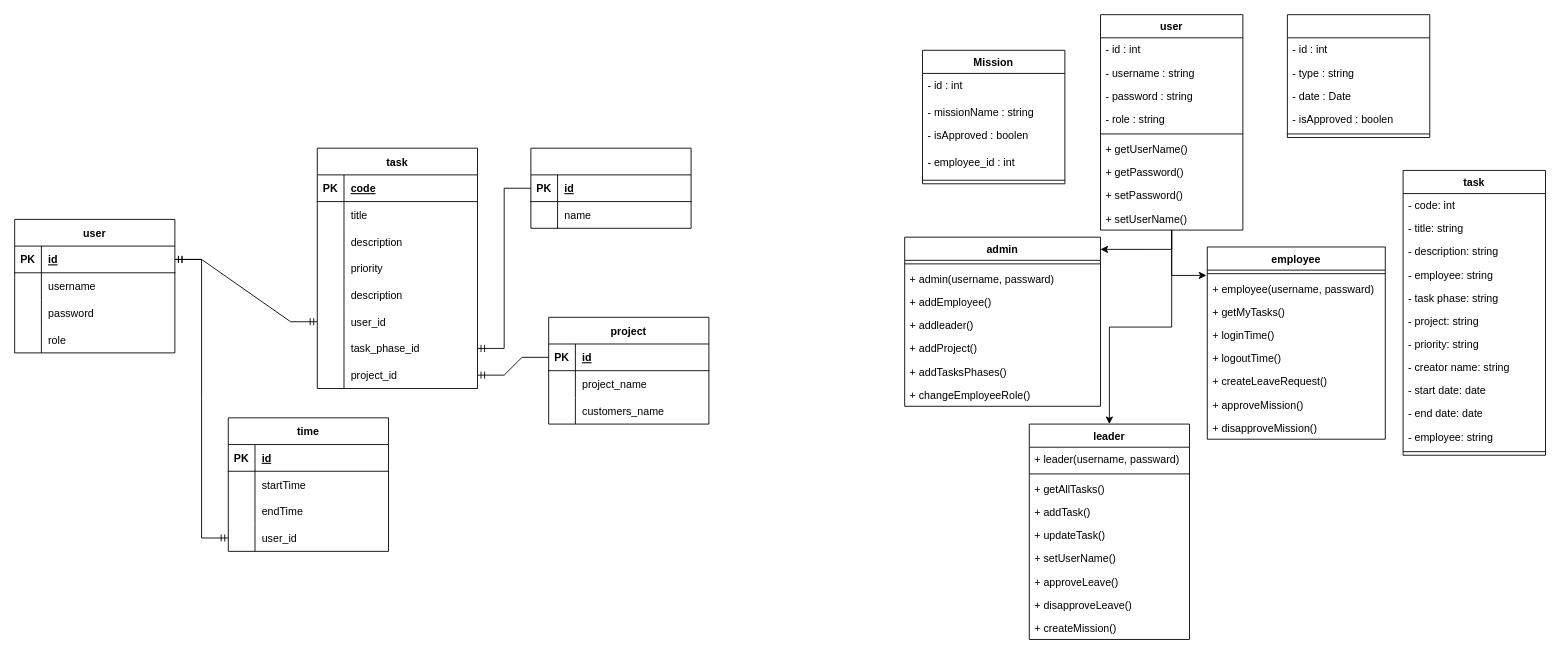
The diagram is 1560 pixels wide and 654 high, and some of its shapes have lost their labels. Here are the shapes that lost their labels. From the top down, the box of each, then its label:
(1286, 14, 1430, 138): Leave
(530, 147, 691, 228): task_phase
